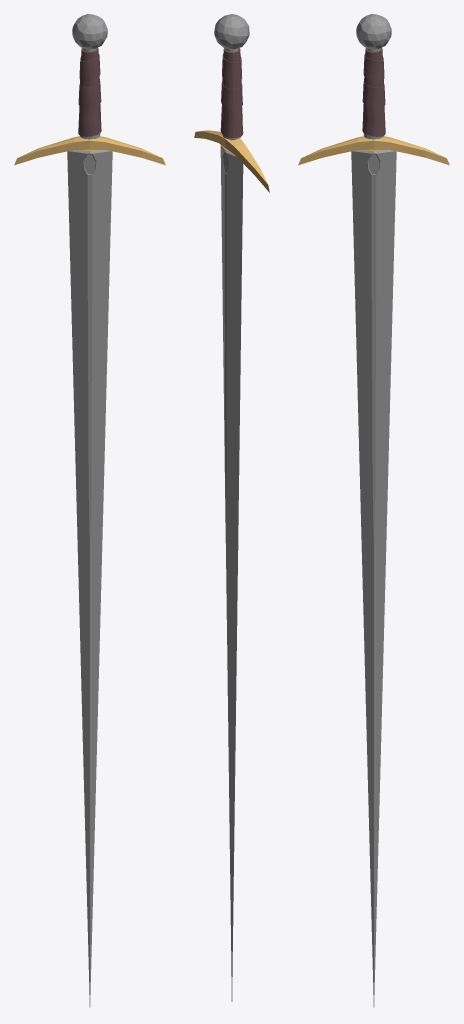
Rendered from straightsword_retouched.fbx.
3 views of the same model, side by side, from view 1: azimuth 90°, elevation 25°; view 2: azimuth 210°, elevation 25°; view 3: azimuth 270°, elevation 25° (orthographic).
Visible parts, largest first — view 1: Cube; view 2: Cube; view 3: Cube.
Boxes of the visible parts, left/top/right/bottom form: Cube: left=14, top=14, right=165, bottom=1007; Cube: left=194, top=14, right=269, bottom=1001; Cube: left=298, top=14, right=449, bottom=1007.
Bounding box in the file's own units: 21.6 × 670 × 92.82.
